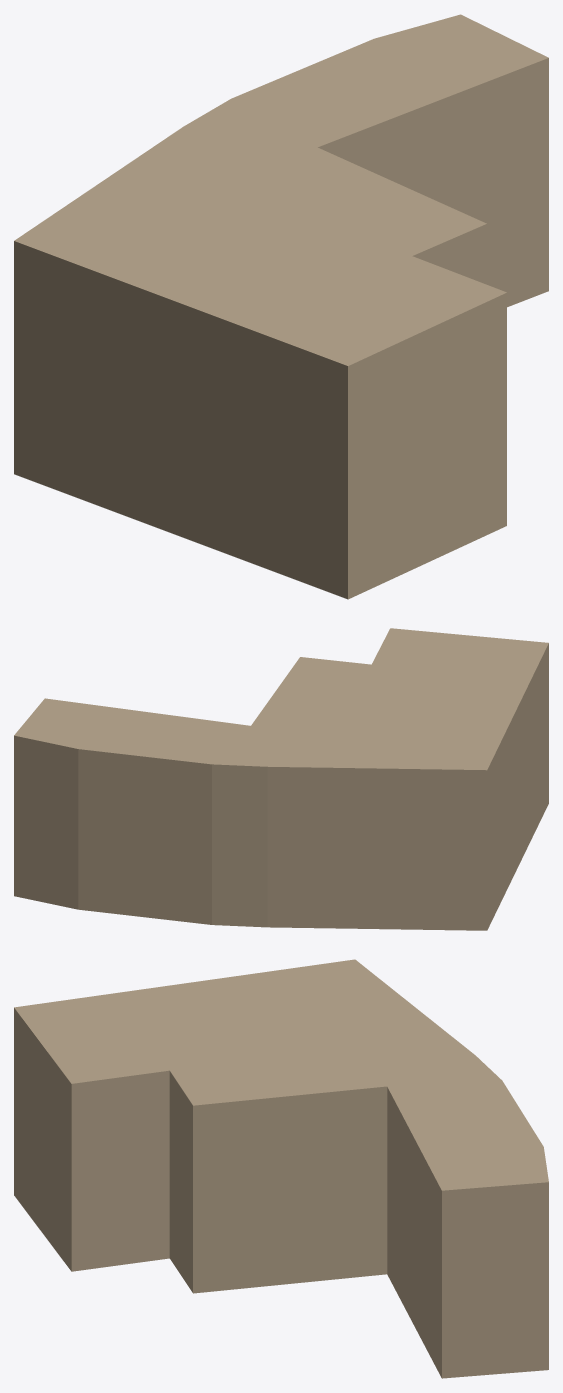
The model's file is bld_98862365.dae.
3 views of the same model, one above another, from view 1: azimuth 30°, elevation 25°; view 2: azimuth 150°, elevation 25°; view 3: azimuth 270°, elevation 25° (orthographic). The views are drawn at different scales.
Parts seen in each view (by area): view 1: bld_98862365; view 2: bld_98862365; view 3: bld_98862365.
Boxes of the visible parts, bbox=[...] form: bld_98862365: bbox=[14, 14, 548, 599]; bld_98862365: bbox=[14, 628, 548, 930]; bld_98862365: bbox=[14, 959, 548, 1378].
Bounding box in the file's own units: 21.13 × 20.65 × 8.
